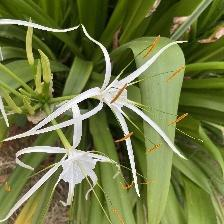spider lily: (1, 24, 191, 199)
